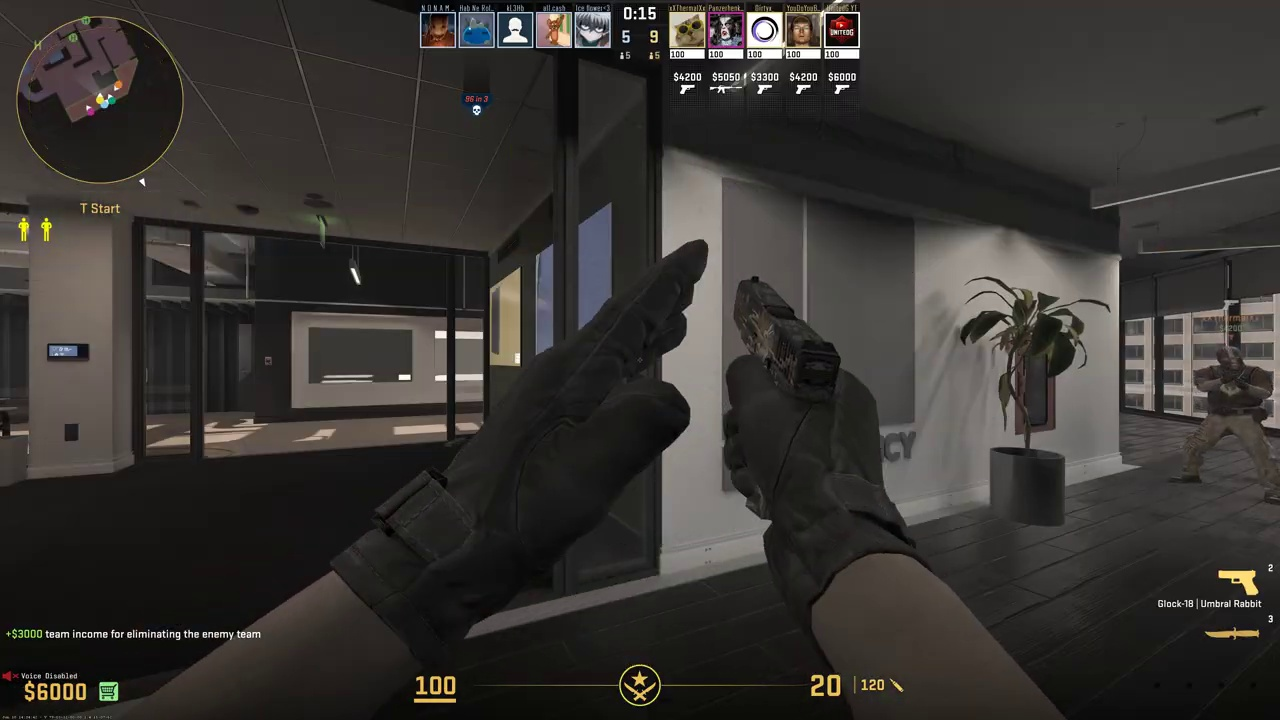Terrorist: (1184, 347, 1280, 491)
